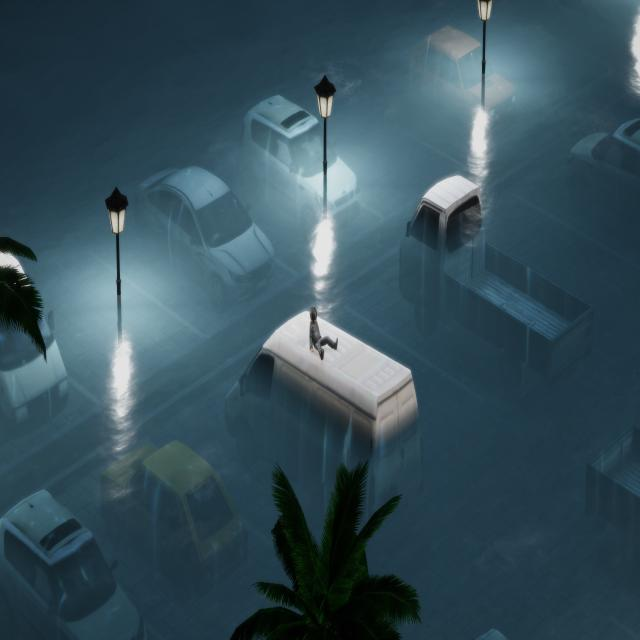Human: (304, 296, 342, 363)
